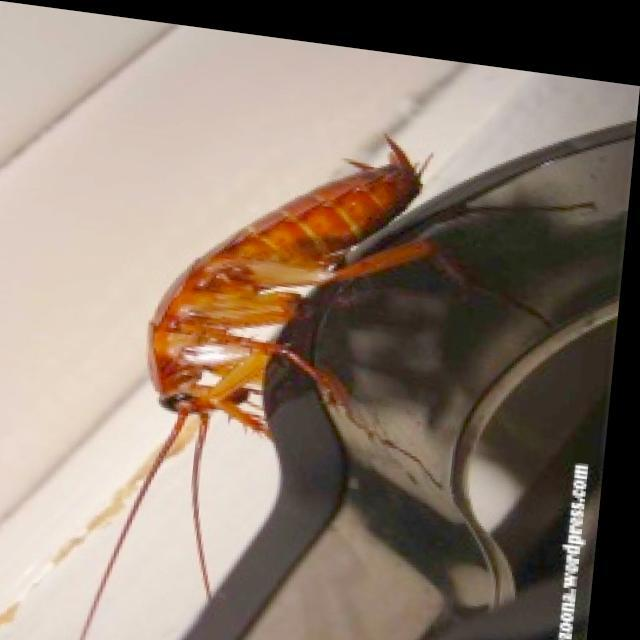cockroach: (73, 117, 509, 494)
